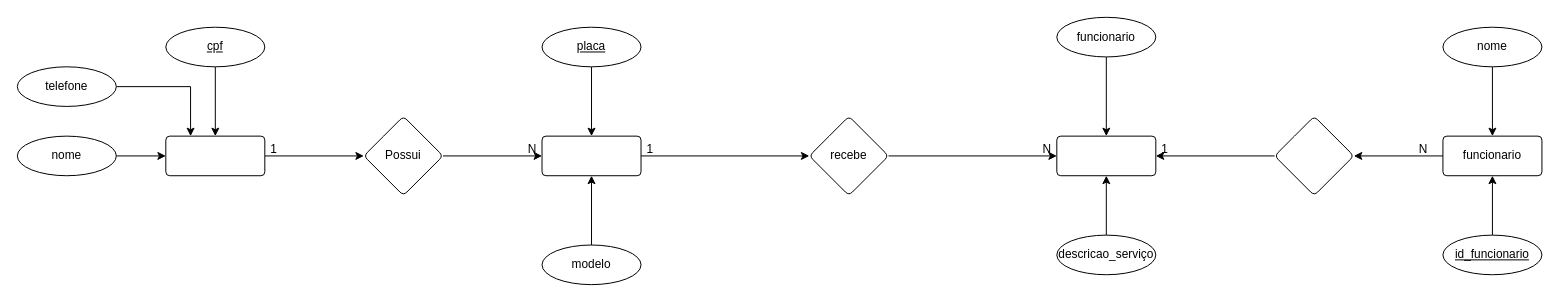
Some shapes in this 1559 by 302 pixel diagram are drawn without their labels. Each missing label, with the box of its shape:
Carro: (541, 135, 641, 176)
Cliente: (165, 135, 265, 176)
faz: (1274, 115, 1354, 196)
Reparo: (1056, 135, 1156, 176)
